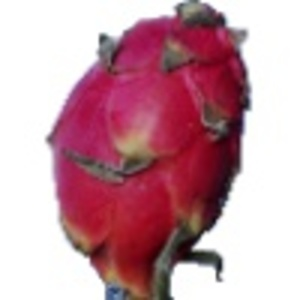pitaia: (47, 1, 254, 300)
